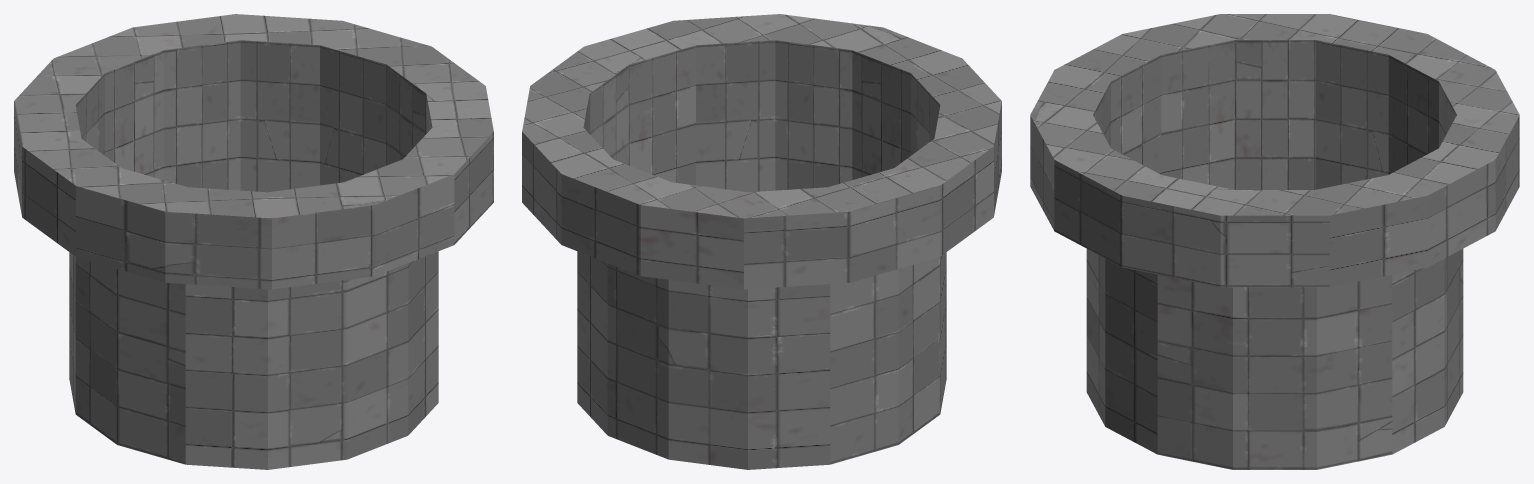
The model's file is WELL.fbx.
The picture shows the model from 3 angles, left to right: view 1: azimuth 30°, elevation 25°; view 2: azimuth 150°, elevation 25°; view 3: azimuth 270°, elevation 25°; orthographic projection.
Parts seen in each view (by area): view 1: Cylinder; view 2: Cylinder; view 3: Cylinder.
Boxes of the visible parts, x1=… form: Cylinder: x1=14, y1=14, x2=493, y2=469; Cylinder: x1=522, y1=14, x2=1001, y2=469; Cylinder: x1=1030, y1=14, x2=1519, y2=469.
Size of the model in its own units: 253 by 163 by 260.
2 materials, 2 textured.
